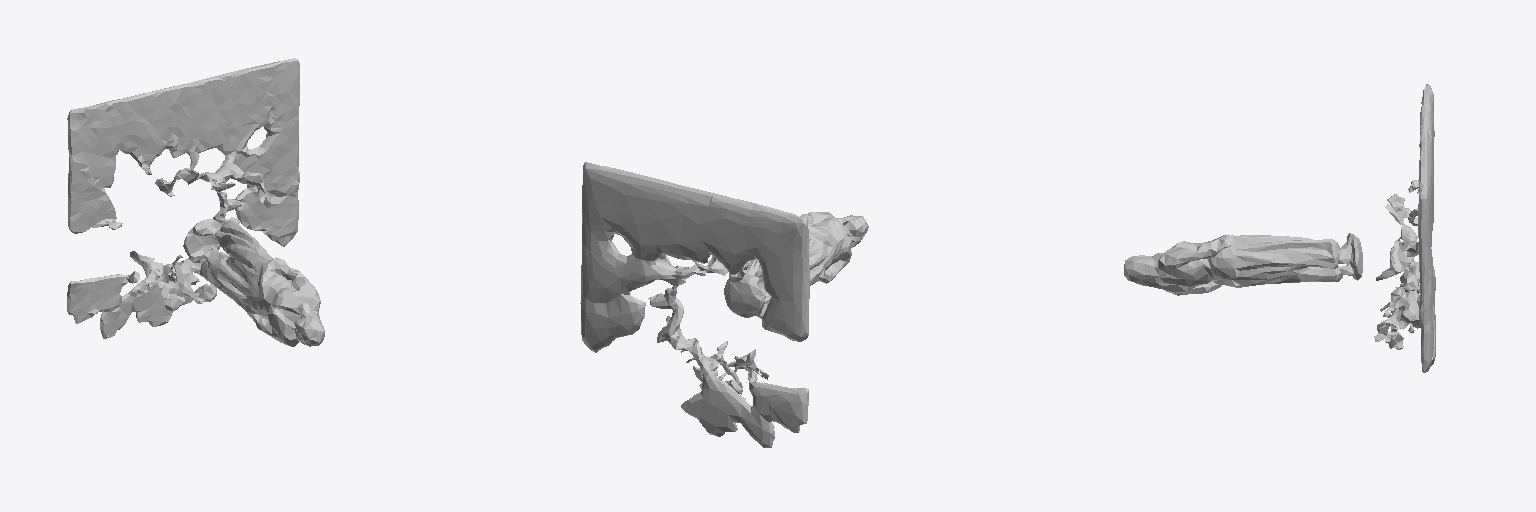
Rendered from yana.obj.
3 views of the same model, side by side, from view 1: azimuth 30°, elevation 25°; view 2: azimuth 150°, elevation 25°; view 3: azimuth 270°, elevation 25° (orthographic).
Bounding box in the file's own units: 1.83 × 1.82 × 2.16.